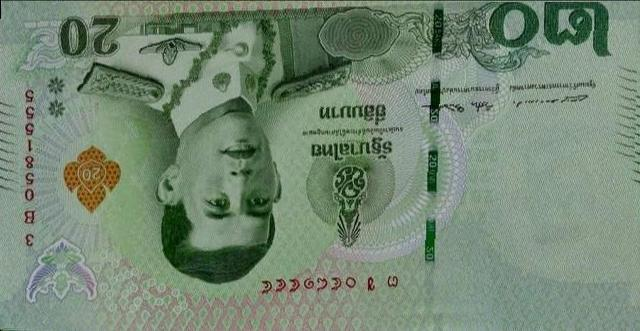20BahtTai: (0, 3, 640, 331)
